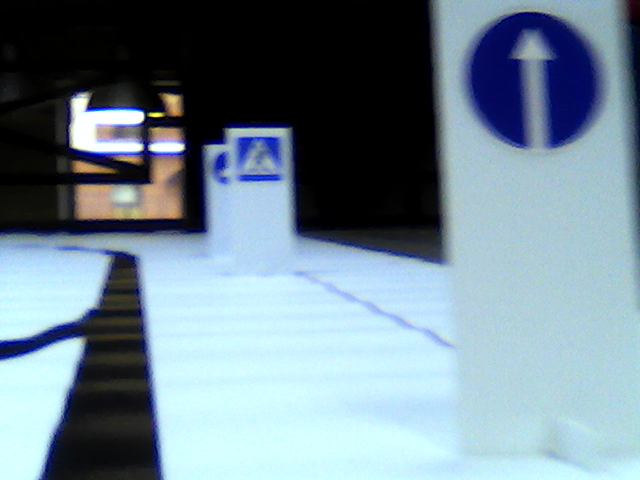forw: (465, 12, 602, 153)
pesh: (237, 136, 280, 177)
